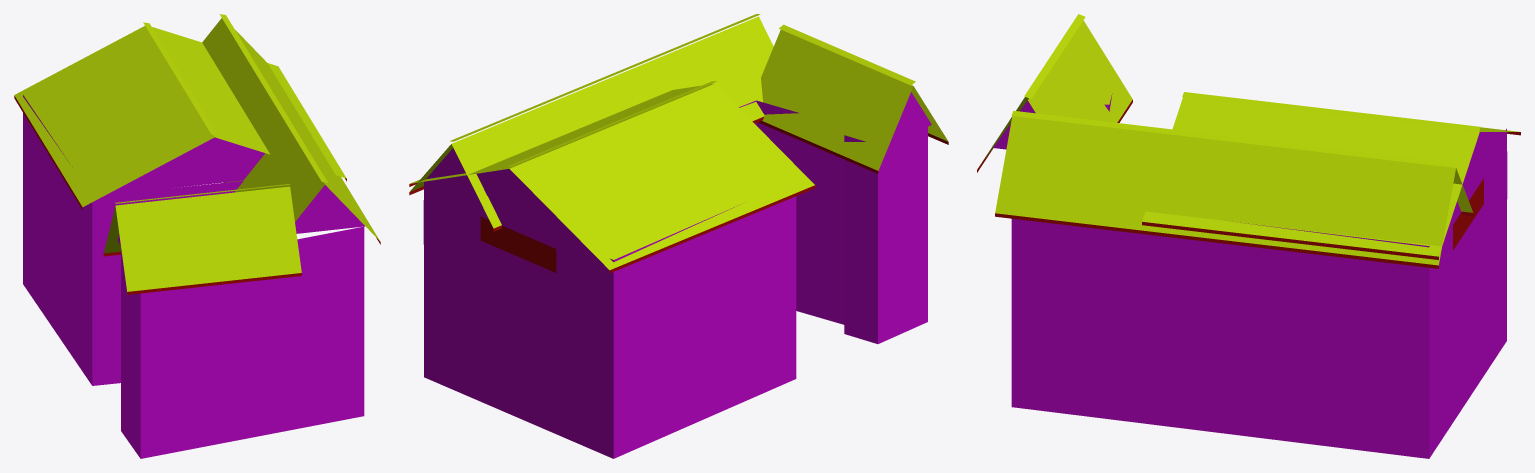
Rendered from bgj_329.glb.
3 views of the same model, side by side, from view 1: azimuth 30°, elevation 25°; view 2: azimuth 150°, elevation 25°; view 3: azimuth 270°, elevation 25° (orthographic). The views are drawn at different scales.
Parts seen in each view (by area): view 1: bgj_329; view 2: bgj_329; view 3: bgj_329.
Part boxes in pixels (x1,y1,x2,y2): bgj_329: (14,14,380,458); bgj_329: (409,14,948,458); bgj_329: (977,14,1520,458).
Bounding box in the file's own units: 13.63 × 9.54 × 17.19.
